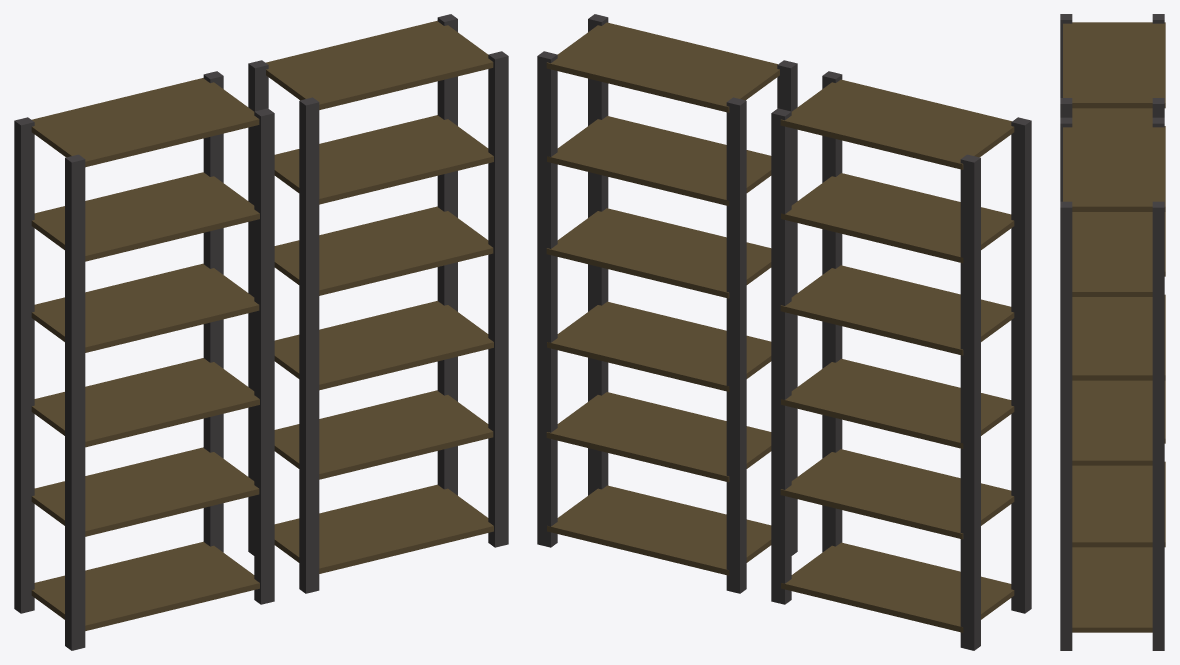
The model's file is etagere.fbx.
3 views of the same model, side by side, from view 1: azimuth 30°, elevation 25°; view 2: azimuth 150°, elevation 25°; view 3: azimuth 270°, elevation 25° (orthographic). The views are drawn at different scales.
Visible parts, largest first — view 1: Cube.010; view 2: Cube.010; view 3: Cube.010.
Part boxes in pixels (x1,y1,x2,y2): Cube.010: (14,14,508,650); Cube.010: (537,14,1031,650); Cube.010: (1060,14,1165,650).
Bounding box in the file's own units: 188 × 201 × 43.3.
